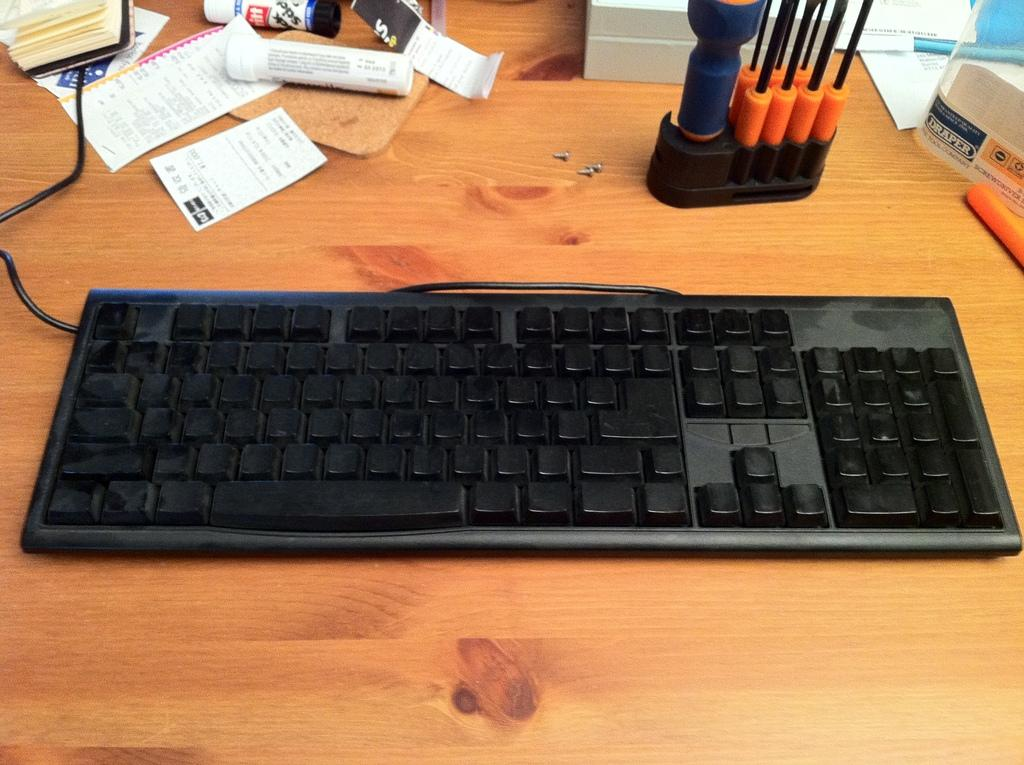Computer-keyboard: (0, 62, 1020, 557)
